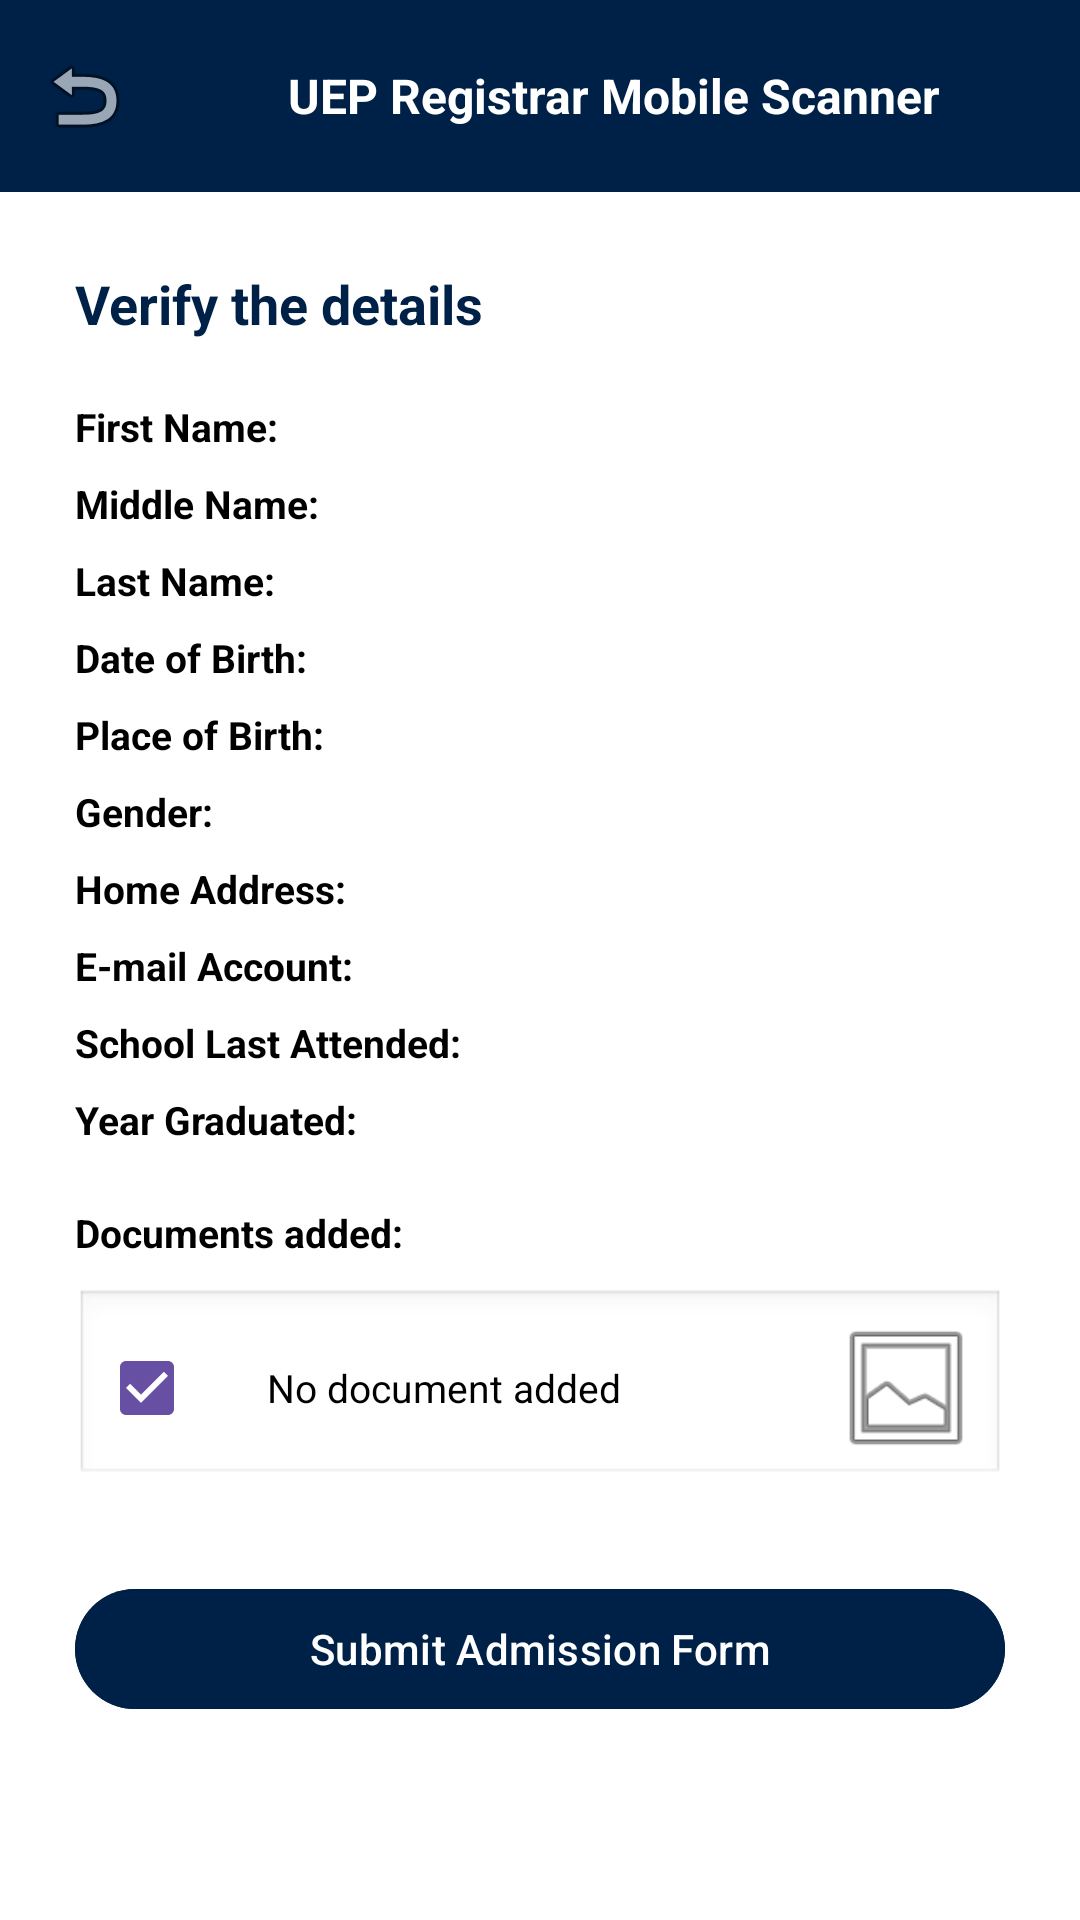

Point at icon controls on the screen. Image size 1080px x 1920px, points as (x,y).
gallery: (906,1388)
